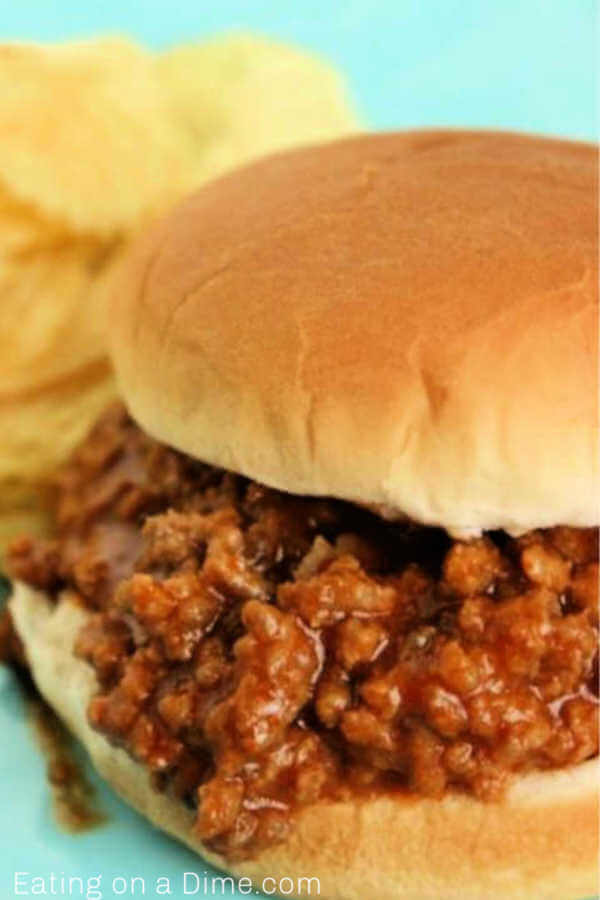hamburger_buns: (92, 117, 600, 500)
